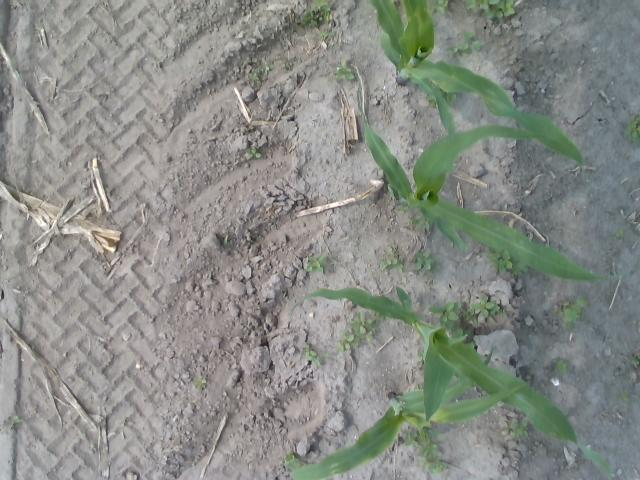Maize: (293, 286, 612, 478), (354, 84, 620, 282), (370, 0, 586, 166), (289, 345, 522, 480)
Weeds: (553, 296, 586, 329), (466, 0, 516, 19), (471, 296, 500, 324), (428, 302, 458, 322), (419, 438, 442, 458), (488, 252, 512, 271), (306, 253, 327, 274), (414, 250, 436, 270), (350, 313, 370, 333), (463, 30, 481, 52), (336, 61, 354, 80), (626, 114, 638, 140), (300, 12, 318, 28), (336, 334, 354, 350), (421, 461, 445, 472), (412, 216, 430, 230), (448, 44, 468, 56), (503, 421, 517, 436), (462, 310, 477, 324), (382, 258, 399, 270), (244, 148, 260, 160), (516, 420, 528, 436), (357, 330, 372, 342), (431, 1, 445, 12), (284, 454, 298, 465), (452, 328, 471, 336), (260, 65, 274, 75), (248, 73, 260, 84), (194, 378, 206, 389), (556, 359, 566, 372), (313, 0, 327, 9), (320, 10, 331, 21), (304, 350, 316, 359), (630, 356, 638, 368), (396, 206, 408, 214), (321, 32, 334, 38), (398, 262, 404, 272), (313, 359, 321, 366), (622, 393, 628, 402), (616, 230, 624, 236)
